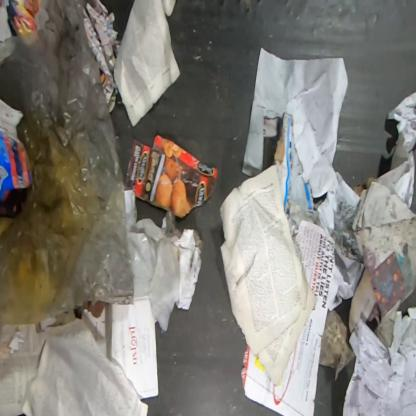cardboard: (125, 133, 218, 219), (261, 112, 314, 222), (0, 100, 35, 204)
soft_plastic: (0, 0, 134, 331)
